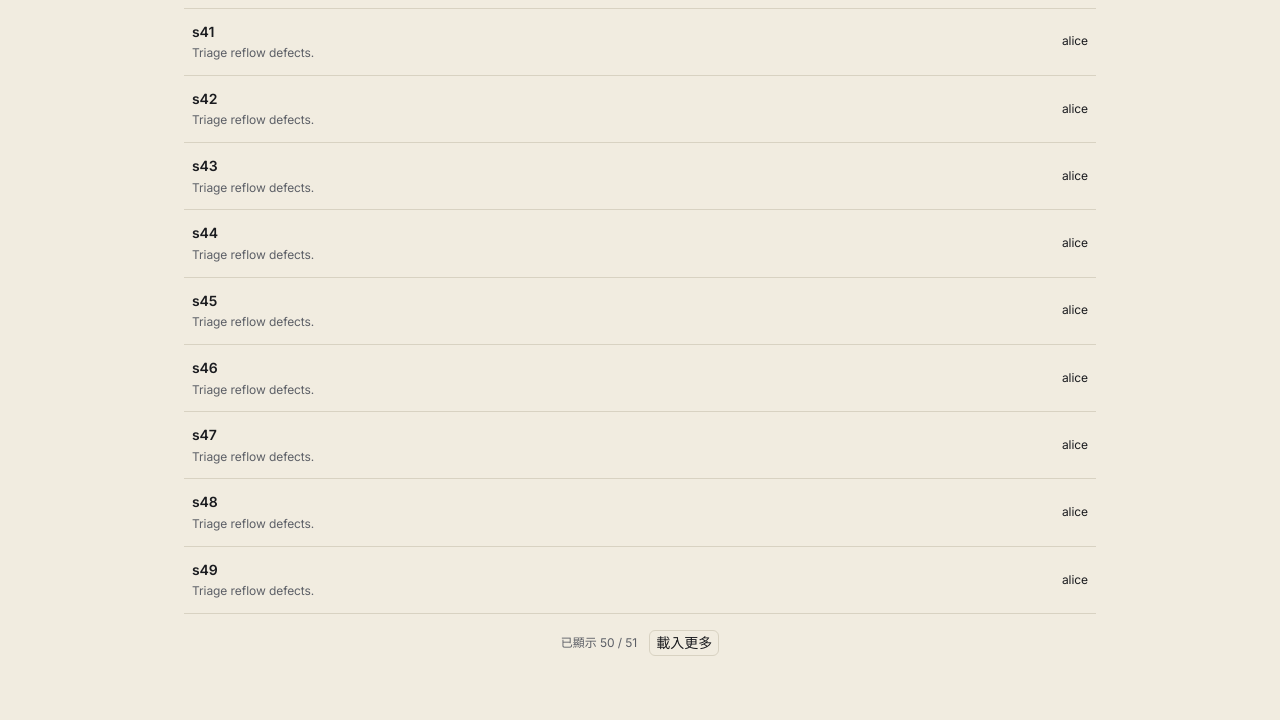
Scenario: SkillHubPage › says the total and pages fifty at a time with 「載入更多」 (D4)
(page scrolled)
Check: the list item with test id "entry-e-49" is shown, box [184,547,1096,614]
Click the button "載入更多": (684, 643) [649,630,719,656]
(page scrolled)
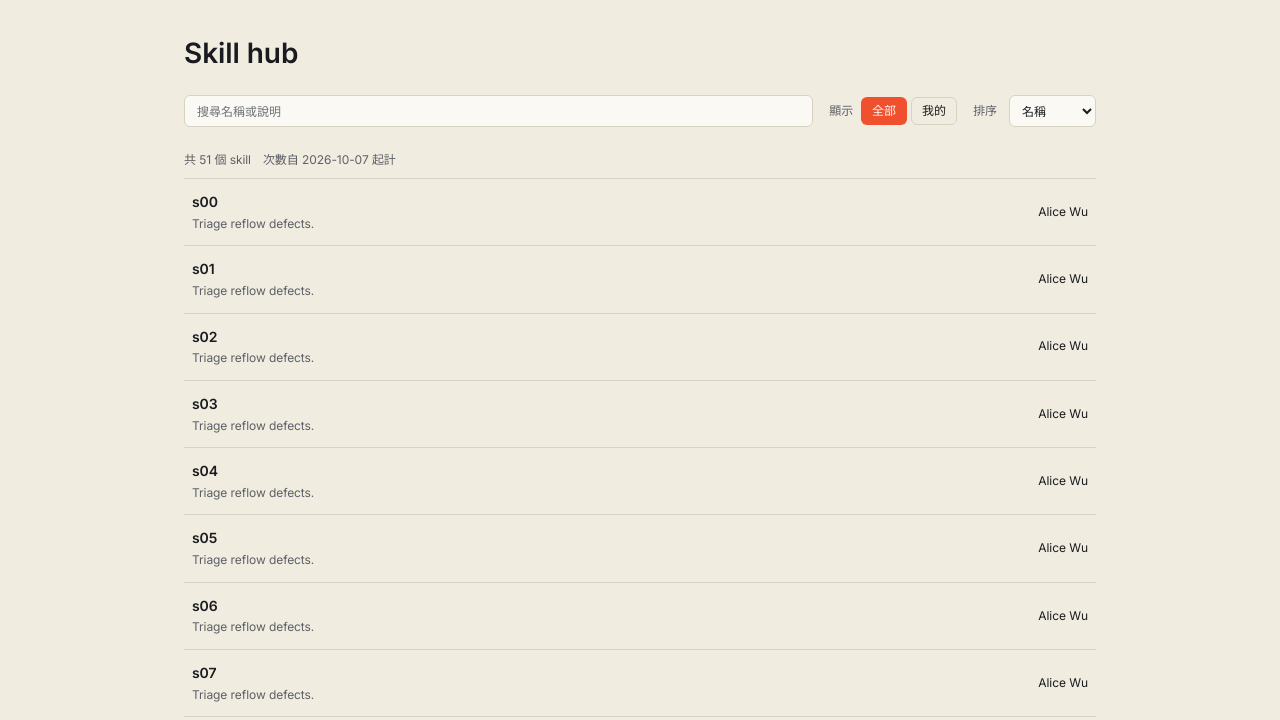
Check: the list item with test id "entry-e-00" is shown, box [184,179,1096,246]
Check: the button "載入更多" is gone
